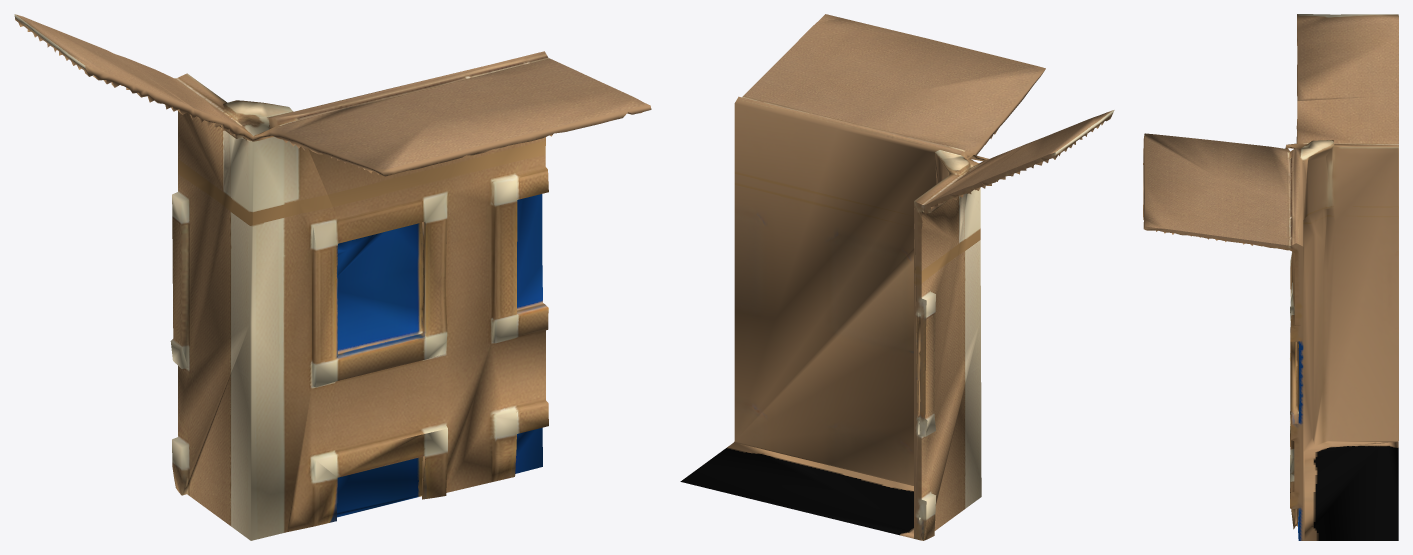
Rendered from 13-topper-front-left.fbx.
3 views of the same model, side by side, from view 1: azimuth 30°, elevation 25°; view 2: azimuth 150°, elevation 25°; view 3: azimuth 270°, elevation 25° (orthographic). The views are drawn at different scales.
Visible parts, largest first — view 1: topper-front-left; view 2: topper-front-left; view 3: topper-front-left.
Boxes of the visible parts, x1,y1,x2,y2 form: topper-front-left: [14, 14, 651, 540]; topper-front-left: [680, 14, 1114, 540]; topper-front-left: [1143, 14, 1398, 540].
Size of the model in its own units: 7196 by 7688 by 4860.
Materials: 1 (1 with a texture image).
